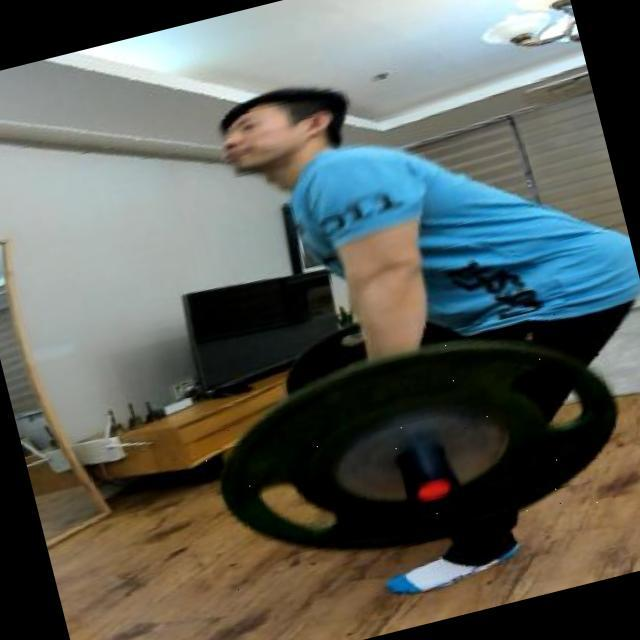barbell: (187, 295, 640, 599)
